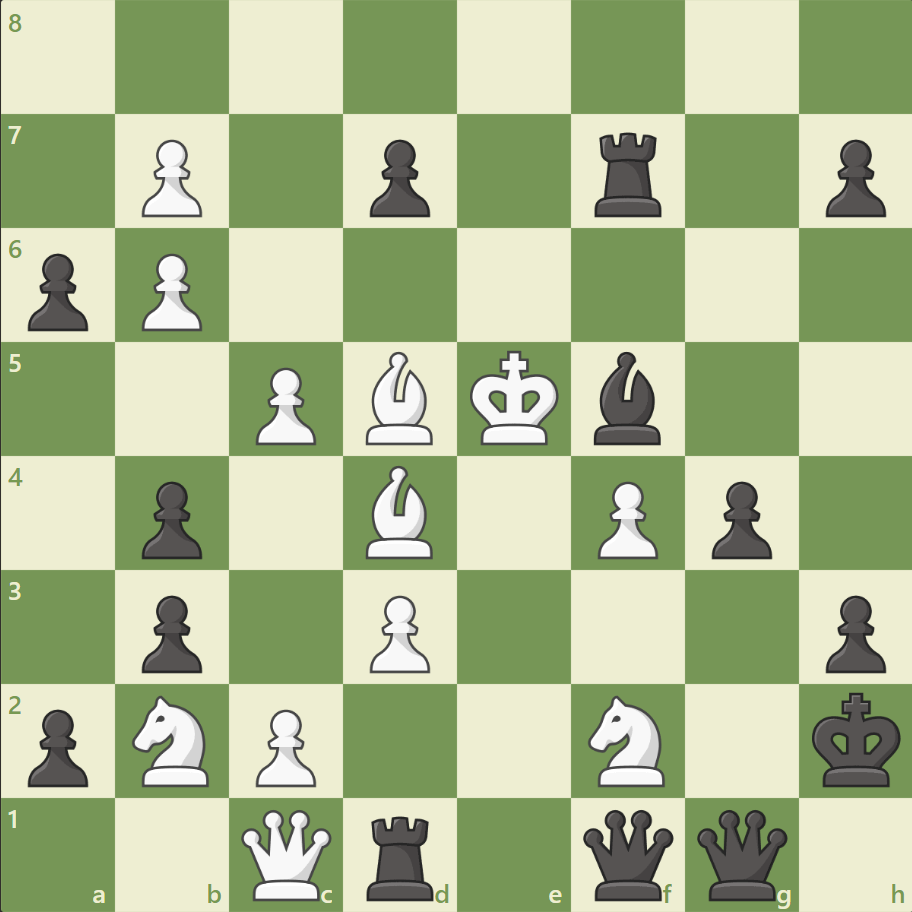B: (358, 460, 442, 563), (358, 347, 442, 449)
K: (465, 344, 565, 452)
N: (124, 688, 222, 791), (579, 688, 676, 791)
P: (133, 132, 208, 223), (133, 246, 208, 337), (247, 359, 322, 450), (247, 700, 322, 791), (588, 473, 662, 564), (361, 586, 435, 677)
Q: (237, 804, 336, 903)
b: (585, 347, 669, 449)
k: (806, 685, 906, 793)
p: (20, 246, 95, 337), (133, 473, 208, 564), (701, 473, 776, 564), (133, 586, 208, 677), (20, 700, 95, 791), (361, 132, 435, 223), (815, 132, 889, 223), (815, 586, 889, 677)
q: (578, 804, 677, 903), (691, 804, 790, 903)
r: (587, 125, 670, 222), (360, 806, 442, 904)
